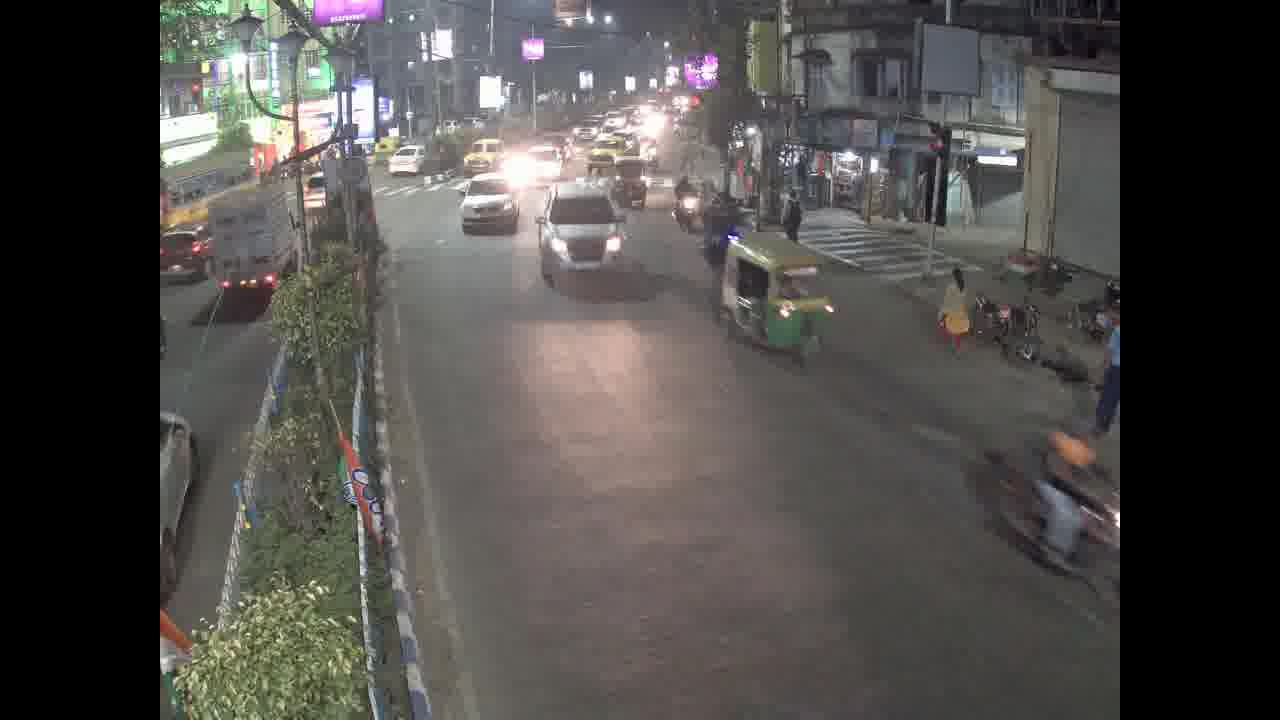auto-rickshaw: (726, 232, 826, 366), (610, 157, 646, 206)
bike: (985, 435, 1124, 601), (969, 292, 1040, 368), (672, 188, 697, 228)
car: (532, 183, 634, 281), (154, 222, 209, 286), (454, 181, 514, 234), (523, 135, 560, 182), (466, 134, 506, 177), (386, 143, 426, 178)
person: (1039, 403, 1090, 545), (926, 252, 966, 348), (775, 187, 821, 234)
